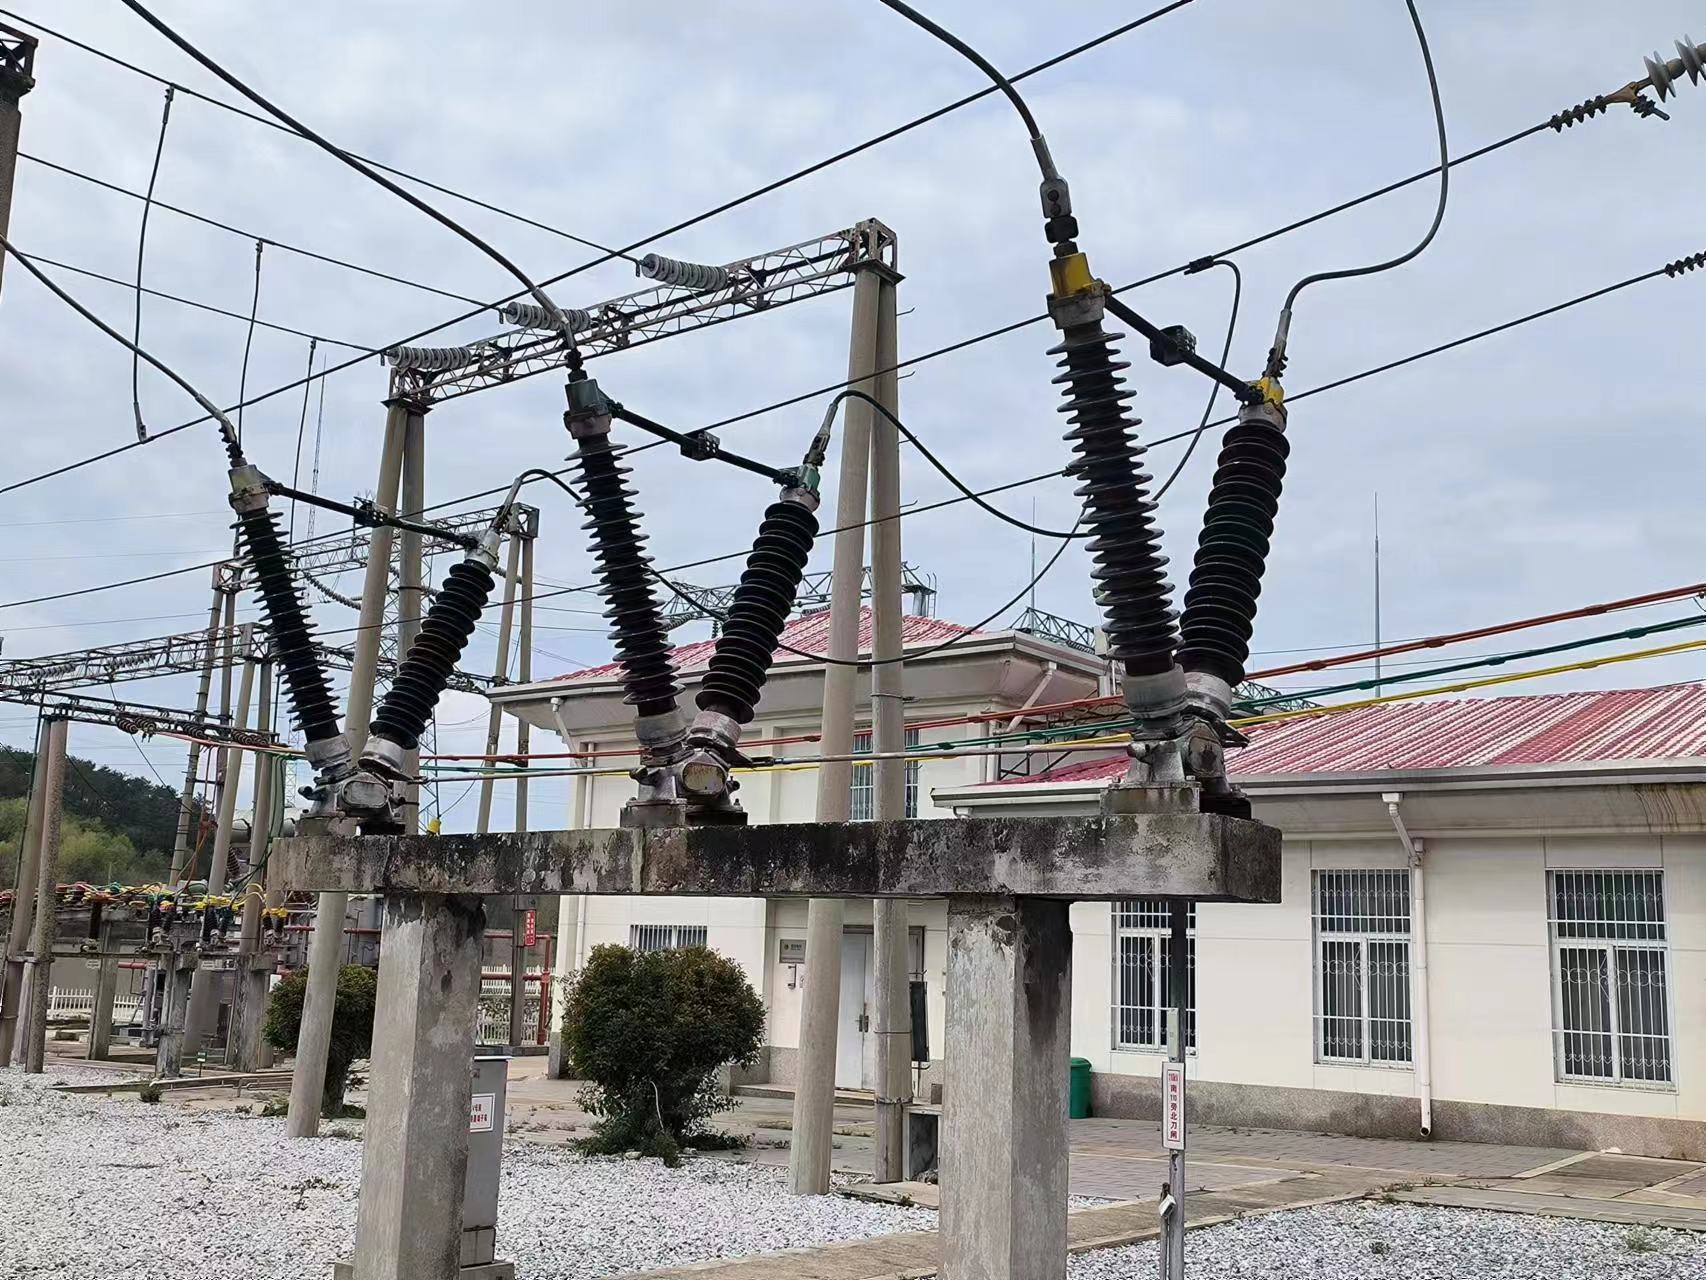Isolating switch: (1032, 231, 1317, 758), (551, 366, 836, 797), (211, 457, 526, 834)
